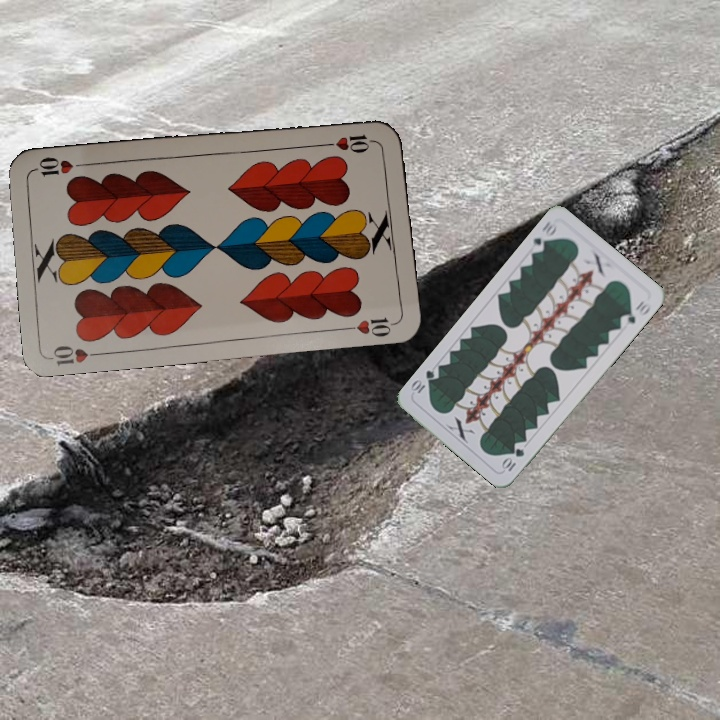G10: (528, 217, 560, 256), (498, 444, 527, 474)
H10: (48, 341, 107, 367), (320, 130, 379, 154)
